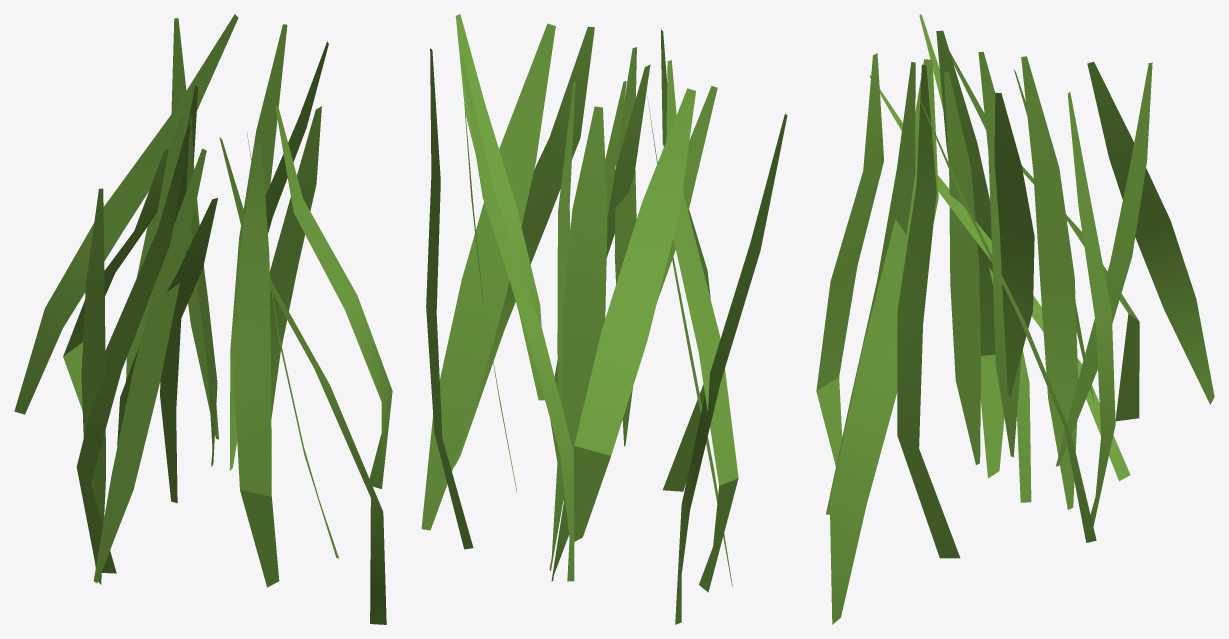
Rendered from grass2.fbx.
The picture shows the model from 3 angles, left to right: view 1: azimuth 30°, elevation 25°; view 2: azimuth 150°, elevation 25°; view 3: azimuth 270°, elevation 25°; orthographic projection. The views are drawn at different scales.
Visible parts, largest first — view 1: grass2; view 2: grass2; view 3: grass2.
Boxes of the visible parts, box(x1,y1,x2,y2) form: grass2: box(14, 14, 392, 624); grass2: box(421, 14, 787, 624); grass2: box(816, 14, 1214, 624).
Size of the model in its own units: 161 by 277 by 182.
